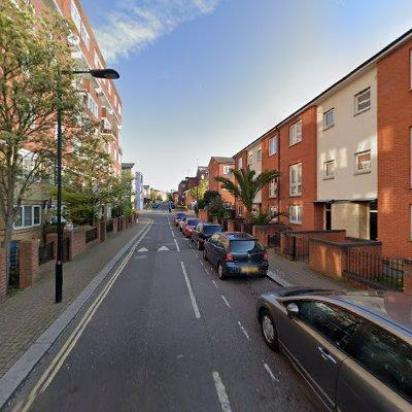stationary-car-onstreet: (254, 284, 412, 412), (202, 231, 270, 281), (192, 222, 224, 246), (181, 218, 201, 238), (178, 217, 190, 228)
stationary-light-truck-onstreet: (172, 211, 186, 225)
